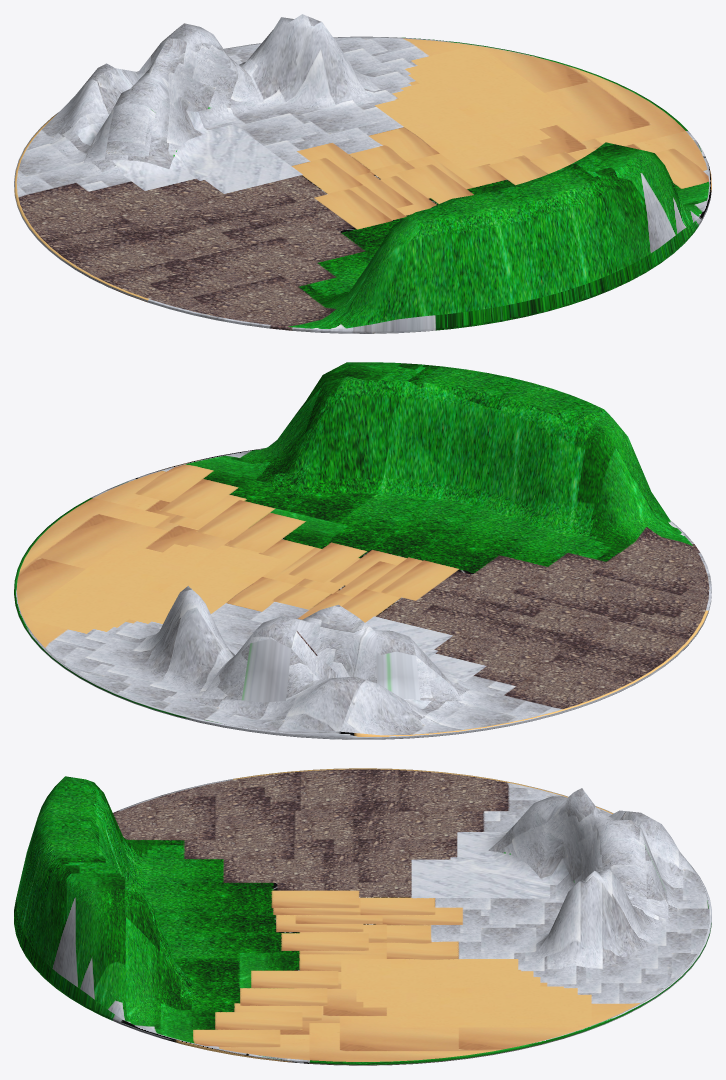
File: Arena New.FBX
3 renders of one model, top to bottom at view 1: azimuth 30°, elevation 25°; view 2: azimuth 150°, elevation 25°; view 3: azimuth 270°, elevation 25°, orthographic.
Visible parts, largest first — view 1: Enviromental Area; view 2: Enviromental Area; view 3: Enviromental Area.
Boxes of the visible parts, <box> form: Enviromental Area: <box>14,14,711,333</box>; Enviromental Area: <box>14,362,711,739</box>; Enviromental Area: <box>14,768,711,1065</box>.
Bounding box in the file's own units: 2130 × 326 × 2128.
Materials: 1 (1 with a texture image).
